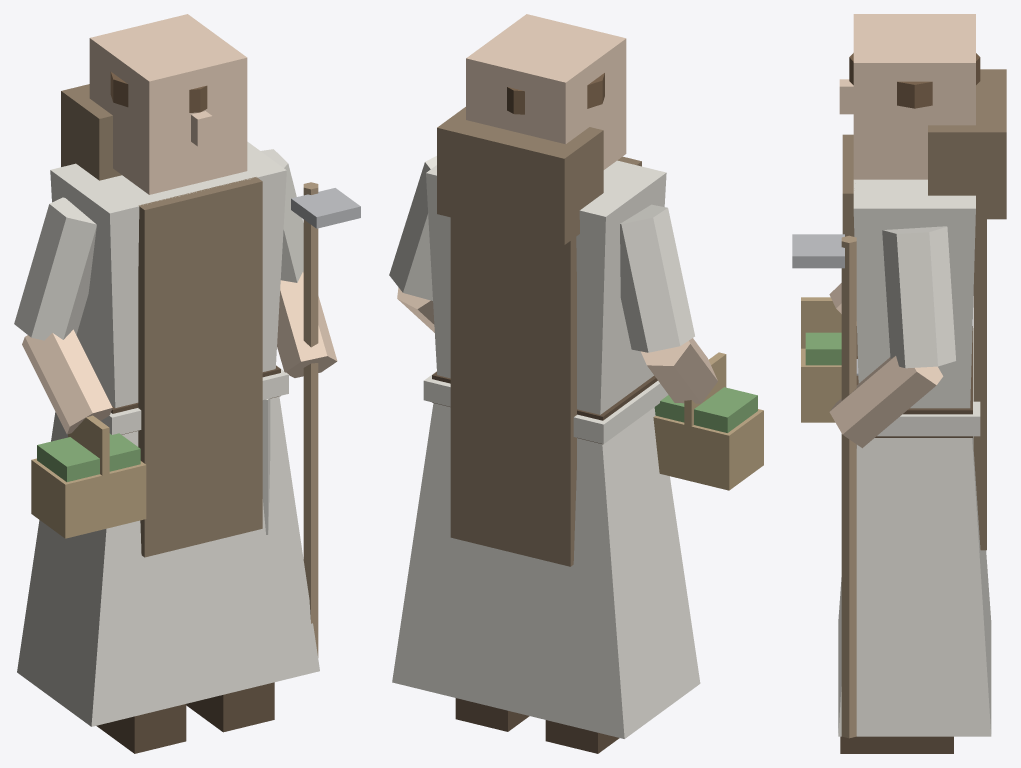
File: char_friar.glb
3 views of the same model, side by side, from view 1: azimuth 30°, elevation 25°; view 2: azimuth 150°, elevation 25°; view 3: azimuth 270°, elevation 25° (orthographic). The views are drawn at different scales.
Parts seen in each view (by area): view 1: char_friar; view 2: char_friar; view 3: char_friar.
Part boxes in pixels (box(x1,y1,x2,y2)): char_friar: box(14, 14, 360, 753); char_friar: box(389, 14, 763, 753); char_friar: box(792, 14, 1006, 753).
Size of the model in its own units: 0.8182 by 1.72 by 0.49.
